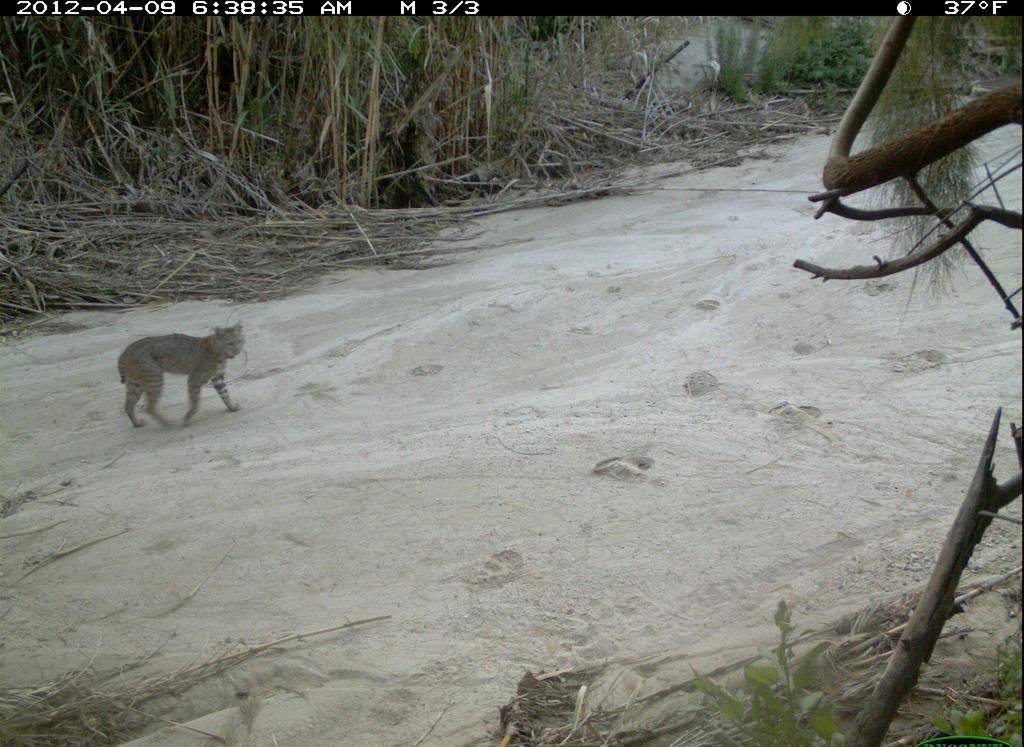bobcat: (115, 317, 269, 439)
